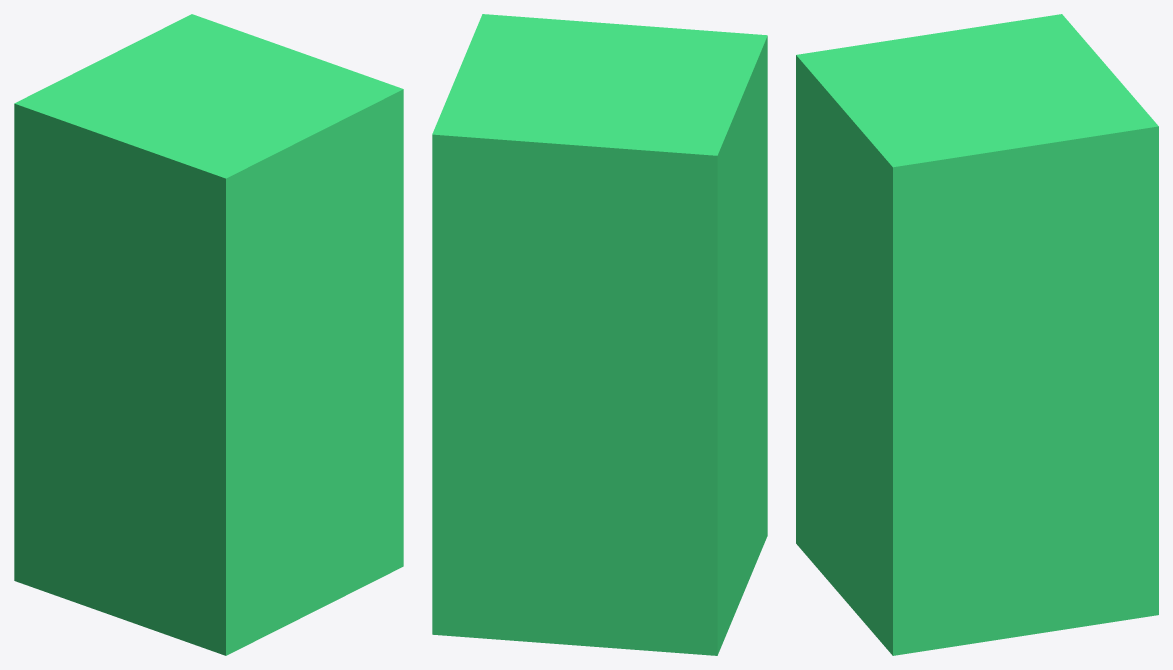
3 views of the same model, side by side, from view 1: azimuth 30°, elevation 25°; view 2: azimuth 150°, elevation 25°; view 3: azimuth 270°, elevation 25° (orthographic). The views are drawn at different scales.
Visible parts, largest first — view 1: 5????F1043; view 2: 5????F1043; view 3: 5????F1043.
Part boxes in pixels (bbox=[...]): 5????F1043: bbox=[14, 14, 403, 655]; 5????F1043: bbox=[432, 14, 767, 655]; 5????F1043: bbox=[796, 14, 1158, 655].
Bounding box in the file's own units: 2.69 × 4 × 2.69.
